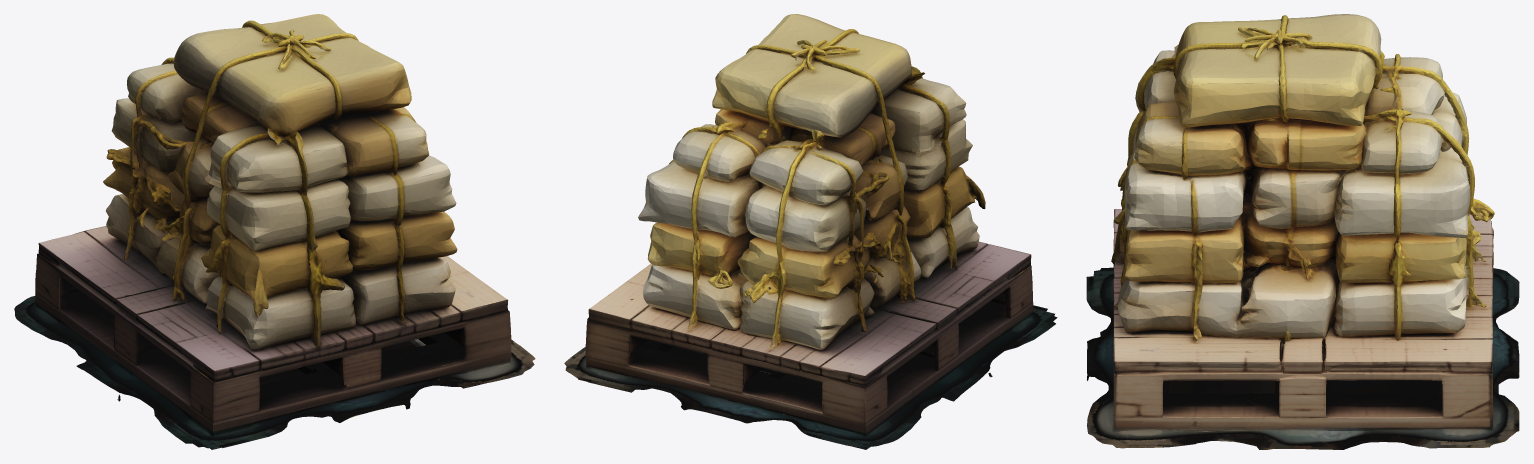
File: fardos.glb
3 renders of one model, left to right at view 1: azimuth 30°, elevation 25°; view 2: azimuth 150°, elevation 25°; view 3: azimuth 270°, elevation 25°, orthographic. The views are drawn at different scales.
Visible parts, largest first — view 1: world; view 2: world; view 3: world.
Boxes of the visible parts, box(x1,y1,x2,y2) form: world: box(14, 14, 535, 449); world: box(564, 14, 1057, 449); world: box(1086, 14, 1519, 449).
Size of the model in its own units: 1 by 0.8683 by 1.
1 material, 1 textured.
